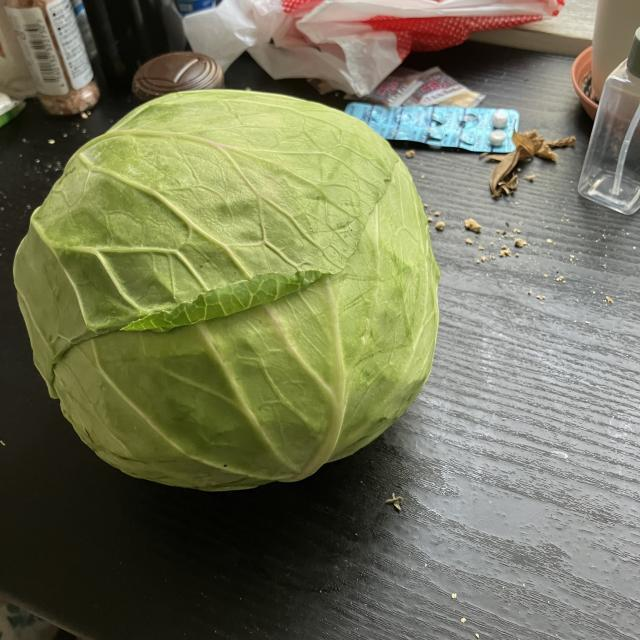cabbage: (11, 85, 445, 496)
